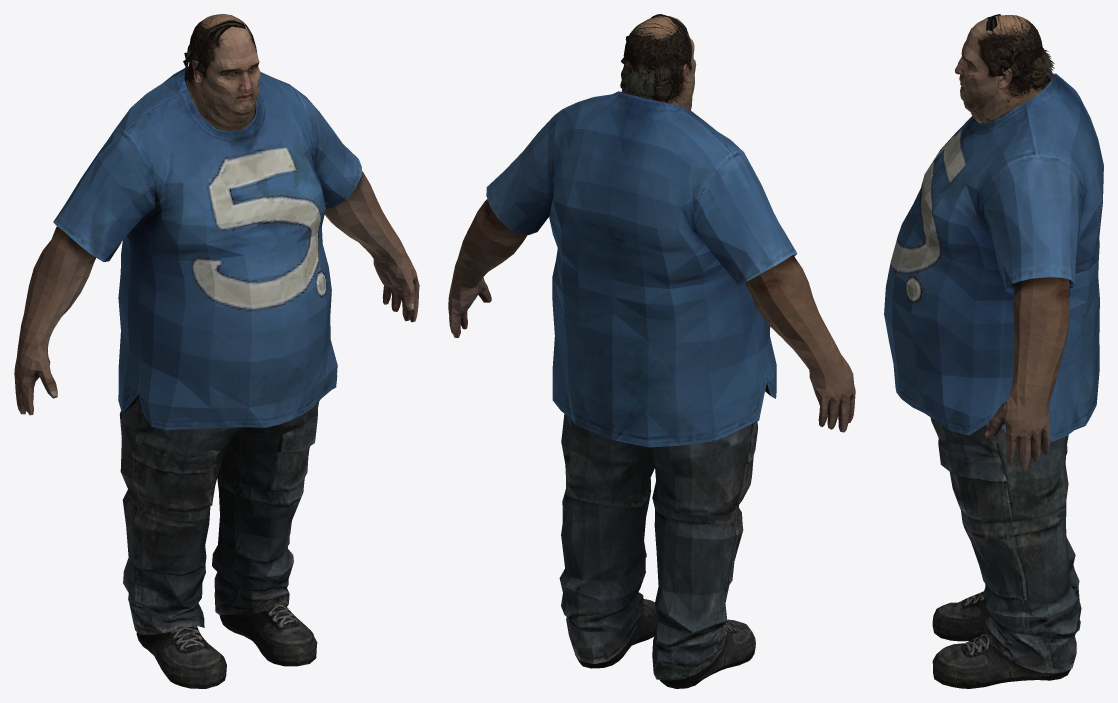
The model's file is obese_male.obj.
3 views of the same model, side by side, from view 1: azimuth 30°, elevation 25°; view 2: azimuth 150°, elevation 25°; view 3: azimuth 270°, elevation 25° (orthographic).
Parts seen in each view (by area): view 1: rdmobj00.001, rdmobj01, rdmobj02; view 2: rdmobj00.001, rdmobj01, rdmobj02, rdmobj07.004; view 3: rdmobj00.001, rdmobj01, rdmobj02.
Boxes of the visible parts, x1,y1,x2,y2 form: rdmobj00.001: (53,66,361,688); rdmobj01: (14,14,419,415); rdmobj02: (183,20,245,74); rdmobj00.001: (486,91,797,688); rdmobj01: (448,16,855,432); rdmobj02: (620,14,691,100); rdmobj07.004: (621,61,672,99); rdmobj00.001: (884,73,1103,688); rdmobj01: (954,15,1069,470); rdmobj02: (986,14,1051,89).
Size of the model in its own units: 4.06 by 6.19 by 1.93.
6 materials, 6 textured.
